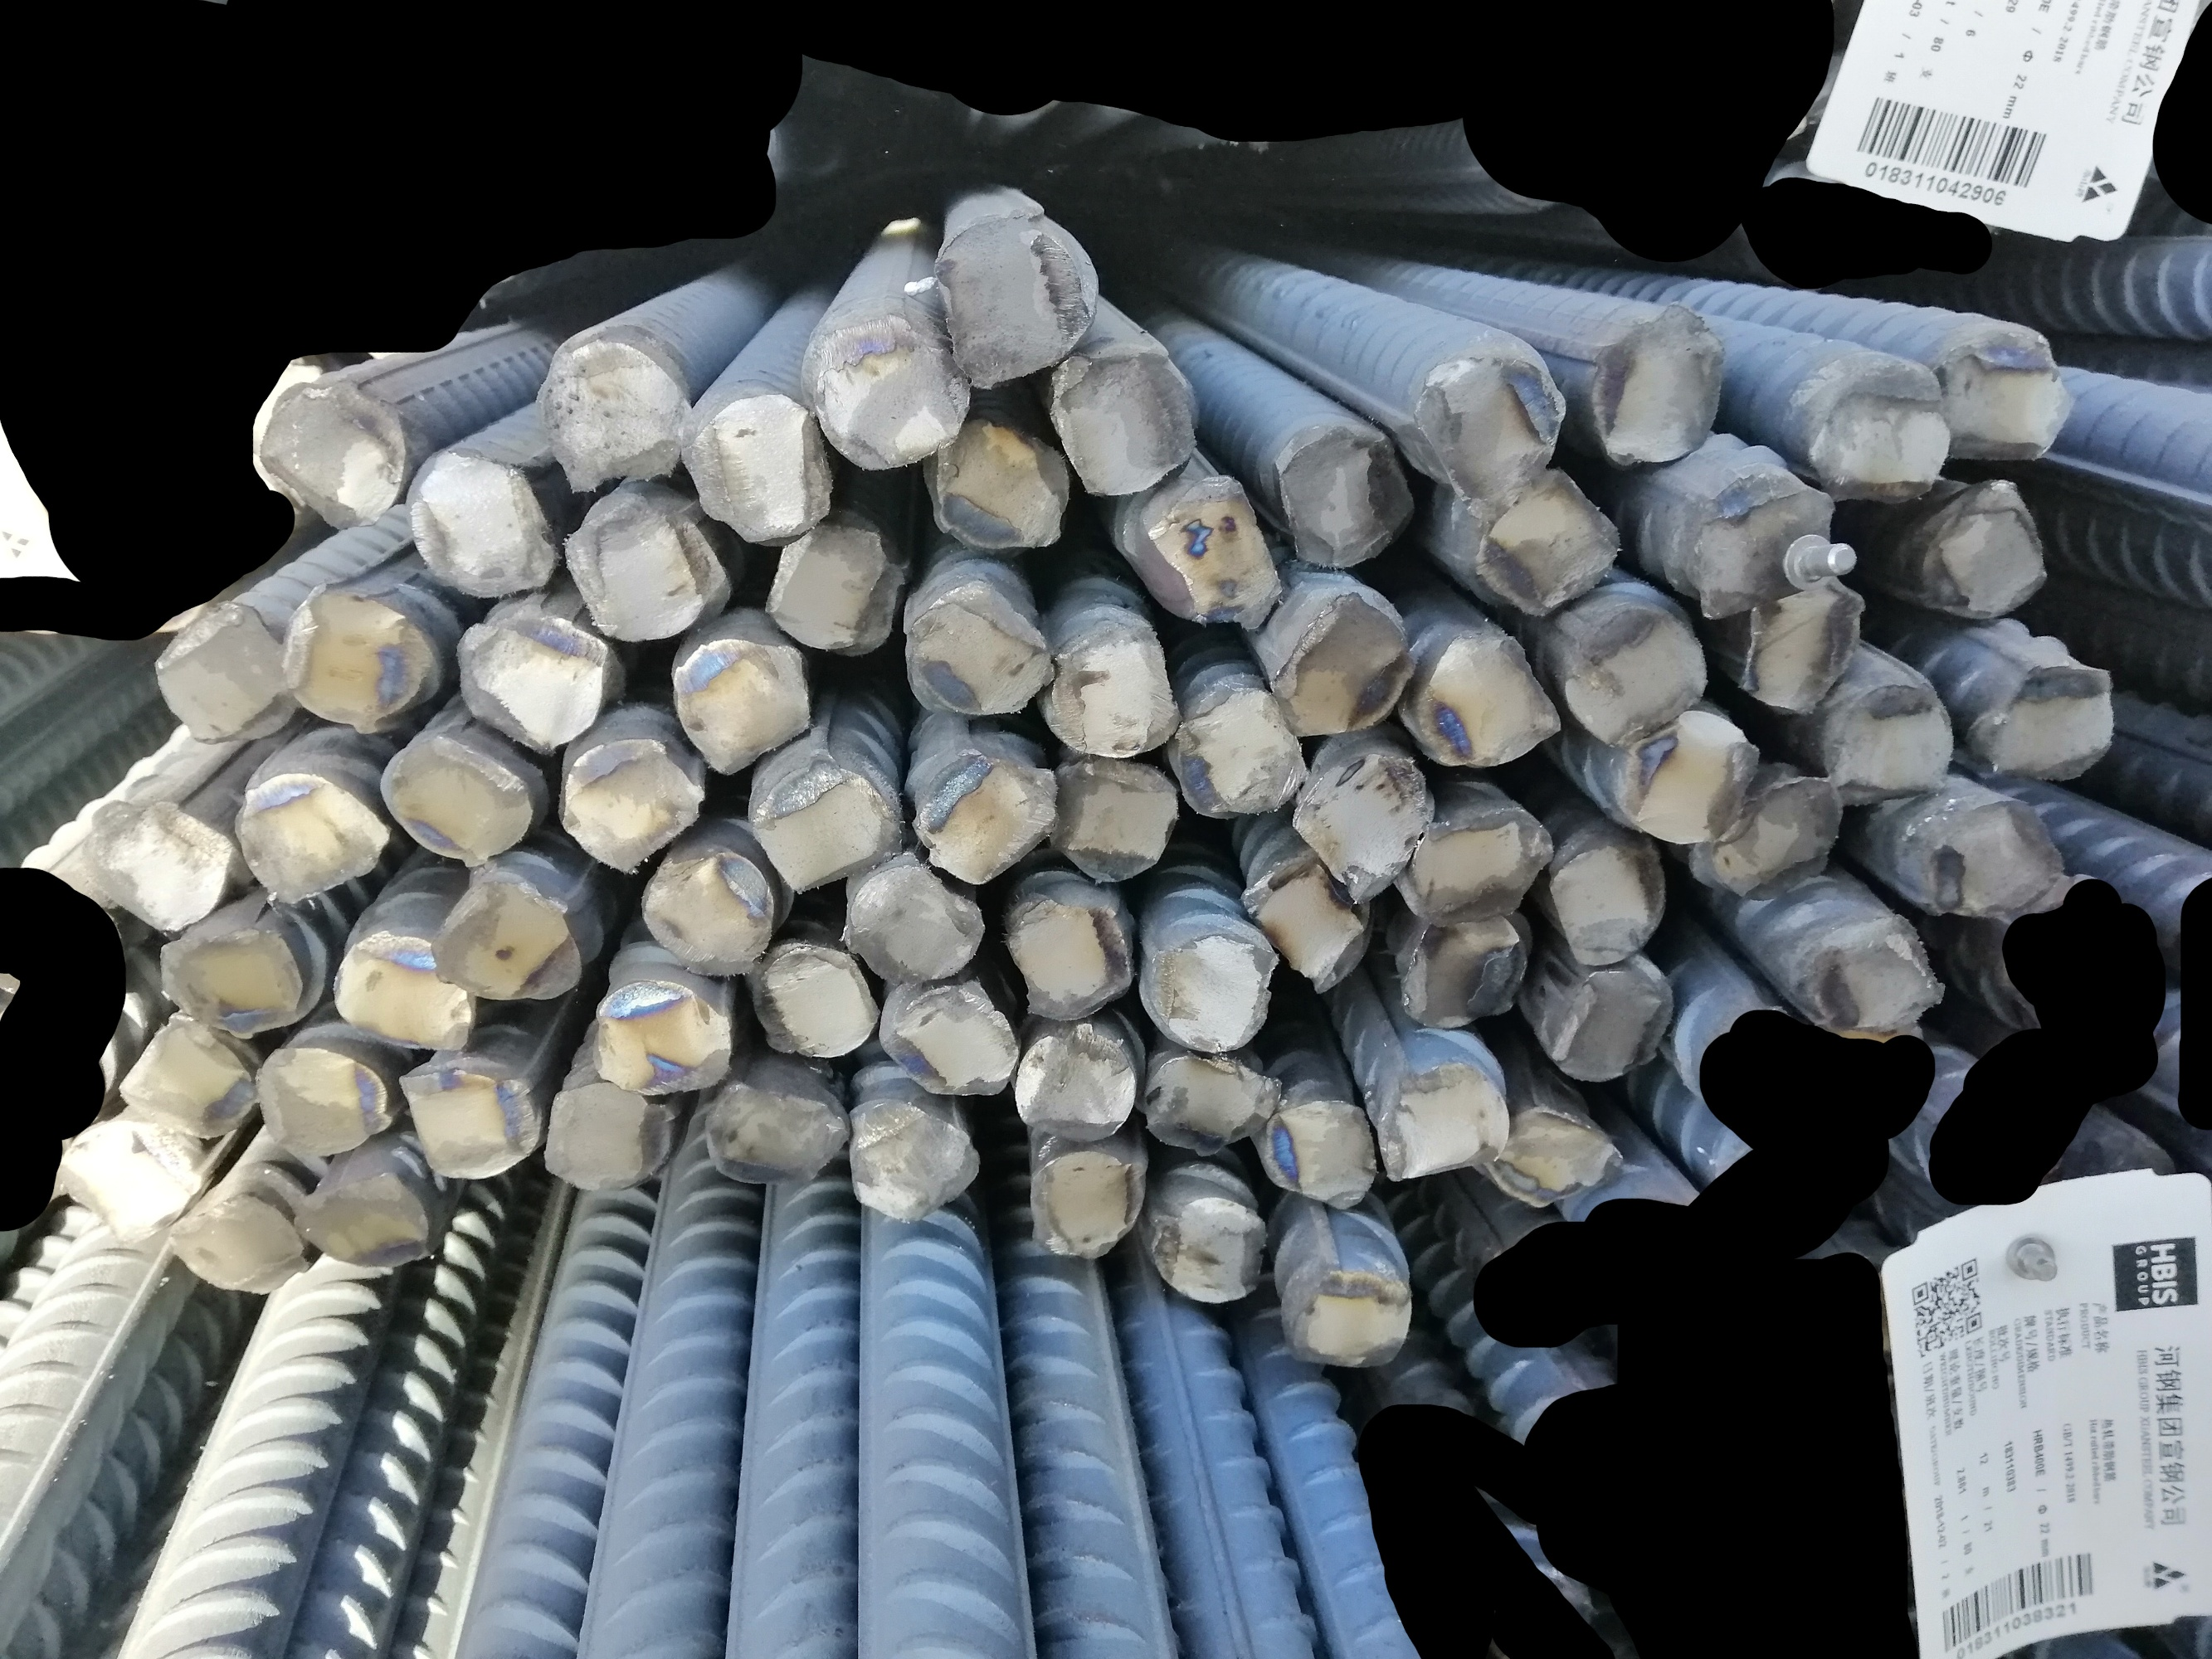rebar: (934, 211, 1100, 396), (800, 303, 966, 477), (554, 471, 718, 643), (394, 441, 565, 603), (1046, 343, 1211, 505), (1410, 349, 1574, 505), (1684, 476, 1849, 626), (1581, 303, 1731, 465), (270, 582, 434, 730), (451, 603, 608, 753), (539, 331, 685, 491), (898, 573, 1055, 721), (682, 389, 828, 545), (267, 375, 411, 533), (1412, 624, 1560, 775), (1147, 471, 1285, 633), (662, 627, 811, 777), (232, 777, 394, 913), (1560, 605, 1712, 749), (1035, 748, 1187, 890), (1271, 589, 1412, 742), (1464, 474, 1619, 613), (1276, 422, 1417, 573), (427, 870, 587, 1002), (1806, 359, 1956, 500), (633, 847, 788, 983), (1924, 321, 2067, 467), (1166, 681, 1316, 821), (1898, 793, 2060, 920), (82, 800, 234, 934), (155, 601, 296, 744), (380, 735, 532, 866), (1295, 746, 1424, 899), (929, 415, 1069, 554), (1138, 922, 1281, 1054), (753, 767, 901, 894), (1980, 648, 2120, 782), (1006, 889, 1143, 1023), (1537, 957, 1677, 1089), (58, 1117, 204, 1243), (1795, 915, 1945, 1037), (1046, 620, 1182, 755), (767, 519, 899, 657), (709, 1068, 851, 1197), (913, 758, 1056, 885), (554, 748, 702, 870), (840, 857, 981, 985), (845, 1093, 981, 1220), (1933, 483, 2057, 622), (394, 1065, 540, 1182), (246, 1037, 387, 1157), (1382, 1060, 1513, 1188), (1628, 711, 1755, 843), (1396, 903, 1527, 1030), (596, 979, 736, 1098), (1741, 580, 1867, 711), (1248, 859, 1372, 992), (1414, 810, 1555, 925), (333, 939, 476, 1053), (1014, 1023, 1142, 1150), (885, 983, 1018, 1105), (1825, 680, 1951, 807), (1715, 779, 1842, 901), (1489, 1098, 1626, 1209), (1020, 1138, 1142, 1263), (544, 1079, 678, 1192), (1546, 835, 1659, 969), (288, 1173, 439, 1272), (162, 1194, 307, 1297), (1143, 1051, 1281, 1157), (157, 927, 303, 1025), (129, 1025, 253, 1140), (757, 946, 879, 1061), (1262, 1094, 1377, 1215), (1293, 1258, 1415, 1371), (1156, 1192, 1271, 1309)
